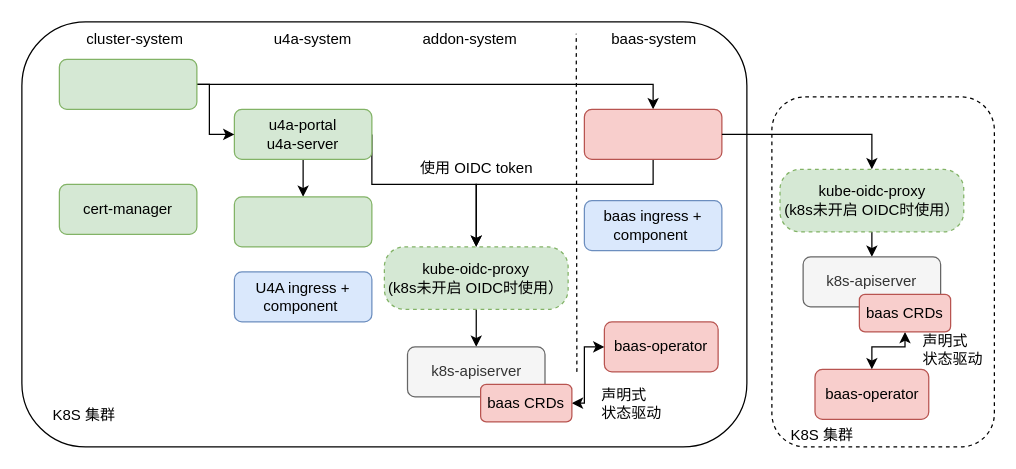
This 1016x469 diagram has some shape labels left out. Here are the shapes that lost their labels. From the top down, the centre of each, then its label:
At [127,83]: "ingress-nginx".
At [652,133]: "baas-portal baas-bff-server".
At [302,221]: "oidc-server (iam + dex)".
